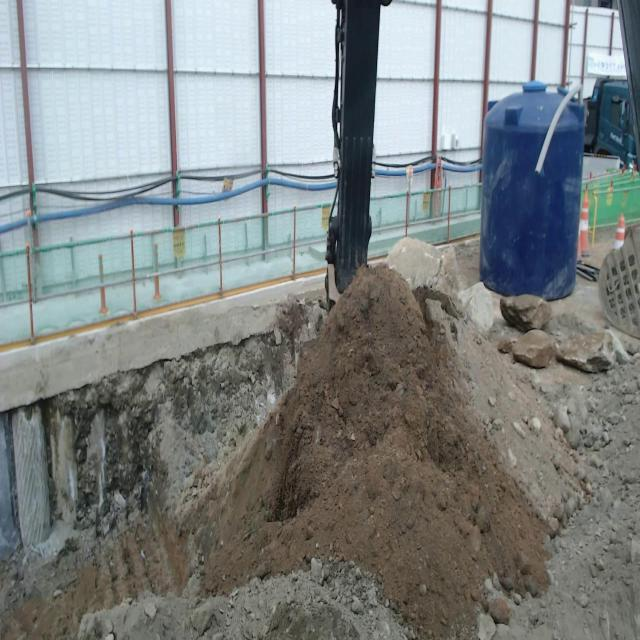red-sand: (0, 264, 585, 639)
stone: (546, 313, 630, 373), (385, 237, 462, 298), (500, 295, 552, 332), (458, 282, 493, 331), (512, 330, 555, 368)
white-sand: (470, 356, 640, 639), (80, 560, 419, 639)
